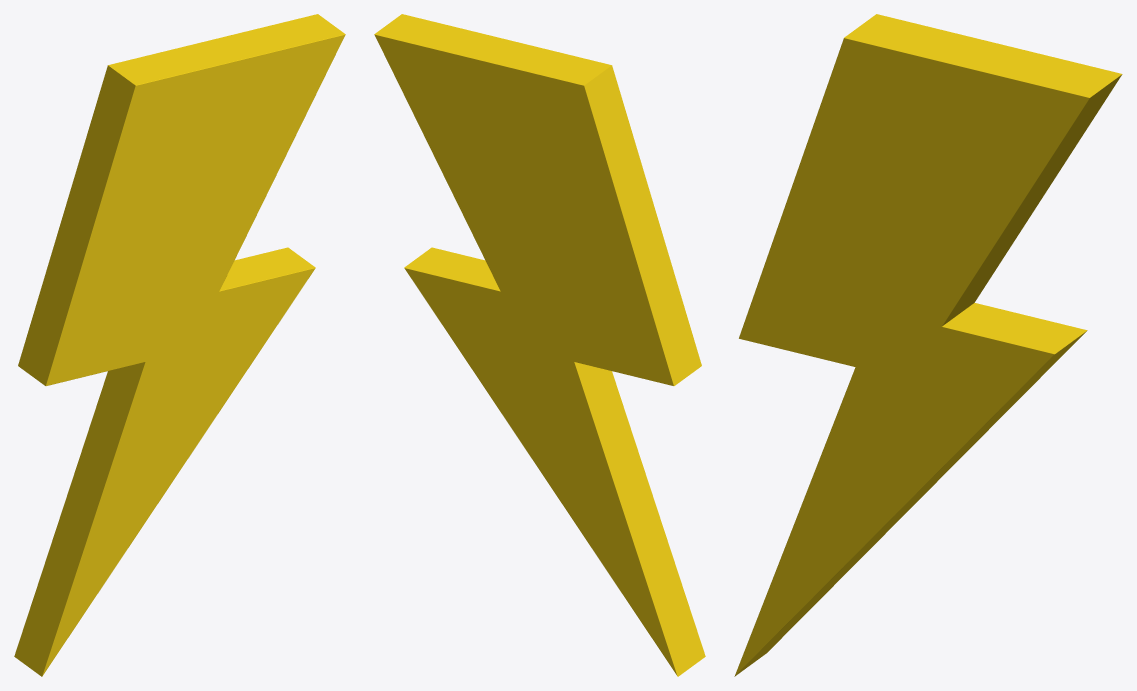
The model's file is lightning.glb.
3 views of the same model, side by side, from view 1: azimuth 30°, elevation 25°; view 2: azimuth 150°, elevation 25°; view 3: azimuth 330°, elevation 25° (orthographic). The views are drawn at different scales.
Parts seen in each view (by area): view 1: Curve_0; view 2: Curve_0; view 3: Curve_0.
Part boxes in pixels (bbox=[...]): Curve_0: bbox=[14, 14, 345, 676]; Curve_0: bbox=[374, 14, 705, 676]; Curve_0: bbox=[734, 14, 1122, 676].
Bounding box in the file's own units: 0.1265 × 0.2263 × 0.0202.
